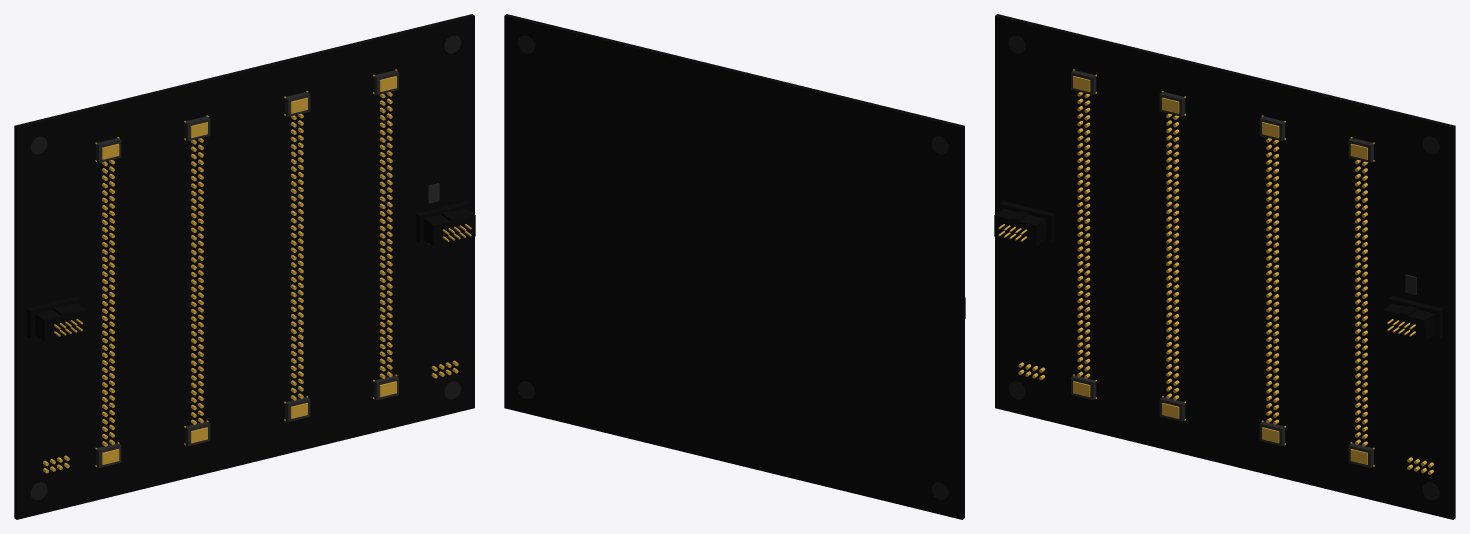
Rendered from multiplexer_board.obj.
3 renders of one model, left to right at view 1: azimuth 30°, elevation 25°; view 2: azimuth 150°, elevation 25°; view 3: azimuth 330°, elevation 25°, orthographic.
Visible parts, largest first — view 1: PCB_Board, IDC_In_Body, IDC_Out_Body, IDC_Out_Cap, IDC_In_Cap; view 2: PCB_Board; view 3: PCB_Board, IDC_Out_Body, IDC_In_Body, IDC_In_Cap, IDC_Out_Cap.
Part boxes in pixels (x1,y1,x2,y2): PCB_Board: [14, 14, 474, 519]; IDC_In_Body: [35, 303, 86, 341]; IDC_Out_Body: [424, 208, 475, 246]; IDC_Out_Cap: [415, 201, 470, 243]; IDC_In_Cap: [27, 296, 81, 338]; PCB_Board: [504, 14, 964, 519]; PCB_Board: [995, 14, 1455, 519]; IDC_Out_Body: [1383, 303, 1434, 341]; IDC_In_Body: [994, 208, 1045, 246]; IDC_In_Cap: [999, 201, 1054, 243]; IDC_Out_Cap: [1388, 296, 1442, 338].
Bounding box in the file's own units: 0.165 × 0.135 × 0.0139.
